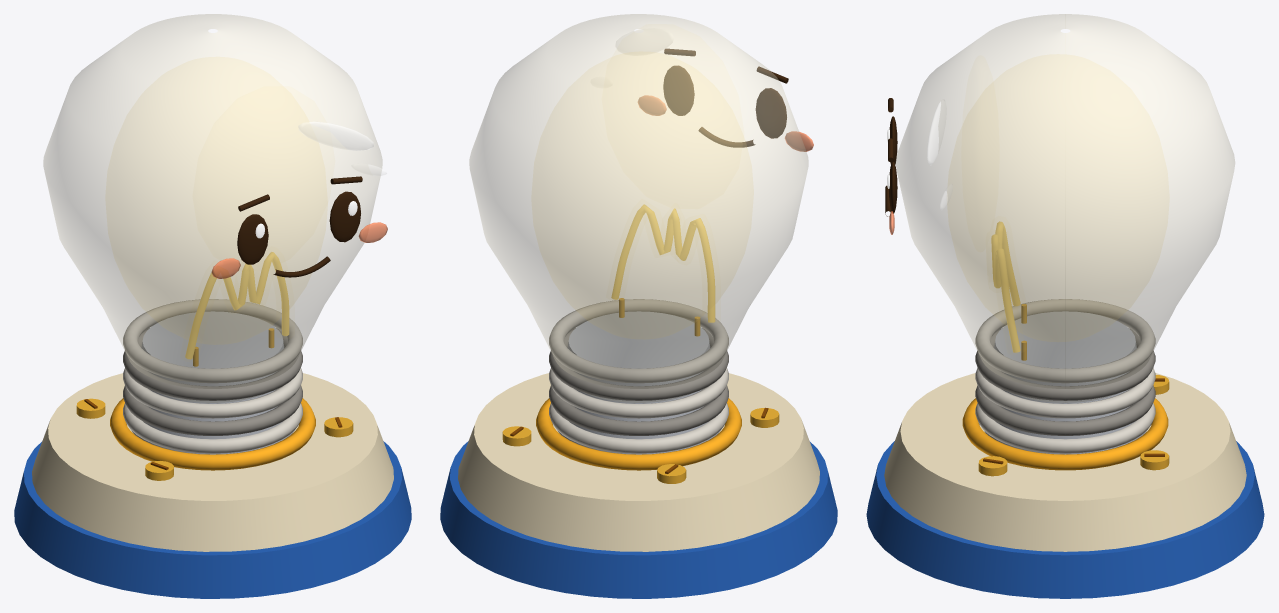
The model's file is light-bulb-character.glb.
3 views of the same model, side by side, from view 1: azimuth 30°, elevation 25°; view 2: azimuth 150°, elevation 25°; view 3: azimuth 270°, elevation 25° (orthographic).
Visible parts, largest first — view 1: LIGHT_BULB_GLASS_SHELL, LIGHT_BULB_CREAM_PLATFORM, LIGHT_BULB_BLUE_BASE, LIGHT_BULB_METAL_SOCKET_CORE, LIGHT_BULB_SOCKET_THREAD_RING_1, LIGHT_BULB_GOLDEN_COLLAR, LIGHT_BULB_SOCKET_THREAD_RING_2, LIGHT_BULB_SOCKET_THREAD_RING_3, LIGHT_BULB_SOCKET_THREAD_RING_4, LIGHT_BULB_SOCKET_THREAD_RING_5, LIGHT_BULB_FILAMENT_MAIN, LIGHT_BULB_GLASS_WHITE_HIGHLIGHT_MAIN (+2 smaller); view 2: LIGHT_BULB_GLASS_SHELL, LIGHT_BULB_CREAM_PLATFORM, LIGHT_BULB_BLUE_BASE, LIGHT_BULB_METAL_SOCKET_CORE, LIGHT_BULB_SOCKET_THREAD_RING_1, LIGHT_BULB_GOLDEN_COLLAR, LIGHT_BULB_SOCKET_THREAD_RING_2, LIGHT_BULB_SOCKET_THREAD_RING_3, LIGHT_BULB_SOCKET_THREAD_RING_4, LIGHT_BULB_SOCKET_THREAD_RING_5, LIGHT_BULB_FILAMENT_MAIN, LIGHT_BULB_EYE_LEFT_MAIN (+2 smaller); view 3: LIGHT_BULB_GLASS_SHELL, LIGHT_BULB_CREAM_PLATFORM, LIGHT_BULB_BLUE_BASE, LIGHT_BULB_METAL_SOCKET_CORE, LIGHT_BULB_SOCKET_THREAD_RING_1, LIGHT_BULB_GOLDEN_COLLAR, LIGHT_BULB_SOCKET_THREAD_RING_2, LIGHT_BULB_SOCKET_THREAD_RING_3, LIGHT_BULB_SOCKET_THREAD_RING_4, LIGHT_BULB_SOCKET_THREAD_RING_5, LIGHT_BULB_FILAMENT_MAIN, LIGHT_BULB_GLASS_WHITE_HIGHLIGHT_MAIN.
Boxes of the visible parts, box(x1,y1,x2,y2) form: LIGHT_BULB_GLASS_SHELL: box(43, 14, 382, 402); LIGHT_BULB_CREAM_PLATFORM: box(32, 373, 393, 551); LIGHT_BULB_BLUE_BASE: box(14, 441, 411, 598); LIGHT_BULB_METAL_SOCKET_CORE: box(132, 311, 293, 454); LIGHT_BULB_SOCKET_THREAD_RING_1: box(123, 299, 302, 383); LIGHT_BULB_GOLDEN_COLLAR: box(110, 398, 315, 470); LIGHT_BULB_SOCKET_THREAD_RING_2: box(123, 328, 302, 400); LIGHT_BULB_SOCKET_THREAD_RING_3: box(123, 368, 302, 418); LIGHT_BULB_SOCKET_THREAD_RING_4: box(123, 385, 302, 435); LIGHT_BULB_SOCKET_THREAD_RING_5: box(123, 403, 302, 453); LIGHT_BULB_FILAMENT_MAIN: box(185, 252, 289, 359); LIGHT_BULB_GLASS_WHITE_HIGHLIGHT_MAIN: box(298, 121, 373, 150); LIGHT_BULB_GLASS_SHELL: box(469, 14, 808, 402); LIGHT_BULB_CREAM_PLATFORM: box(458, 373, 819, 551); LIGHT_BULB_BLUE_BASE: box(440, 441, 837, 598); LIGHT_BULB_METAL_SOCKET_CORE: box(558, 311, 719, 454); LIGHT_BULB_SOCKET_THREAD_RING_1: box(549, 299, 728, 383); LIGHT_BULB_GOLDEN_COLLAR: box(536, 398, 741, 470); LIGHT_BULB_SOCKET_THREAD_RING_2: box(549, 328, 728, 400); LIGHT_BULB_SOCKET_THREAD_RING_3: box(549, 368, 728, 418); LIGHT_BULB_SOCKET_THREAD_RING_4: box(549, 385, 728, 435); LIGHT_BULB_SOCKET_THREAD_RING_5: box(549, 403, 728, 453); LIGHT_BULB_FILAMENT_MAIN: box(611, 204, 715, 322); LIGHT_BULB_EYE_LEFT_MAIN: box(755, 88, 786, 138); LIGHT_BULB_GLASS_SHELL: box(896, 14, 1234, 402); LIGHT_BULB_CREAM_PLATFORM: box(884, 373, 1246, 551); LIGHT_BULB_BLUE_BASE: box(866, 441, 1264, 598); LIGHT_BULB_METAL_SOCKET_CORE: box(984, 311, 1146, 454); LIGHT_BULB_SOCKET_THREAD_RING_1: box(975, 299, 1155, 383); LIGHT_BULB_GOLDEN_COLLAR: box(962, 398, 1168, 470); LIGHT_BULB_SOCKET_THREAD_RING_2: box(975, 328, 1155, 400); LIGHT_BULB_SOCKET_THREAD_RING_3: box(975, 368, 1155, 418); LIGHT_BULB_SOCKET_THREAD_RING_4: box(975, 385, 1155, 435); LIGHT_BULB_SOCKET_THREAD_RING_5: box(975, 403, 1155, 453); LIGHT_BULB_FILAMENT_MAIN: box(991, 221, 1020, 352); LIGHT_BULB_GLASS_WHITE_HIGHLIGHT_MAIN: box(927, 99, 946, 165).
Bounding box in the file's own units: 1.64 × 2.2 × 1.64.
